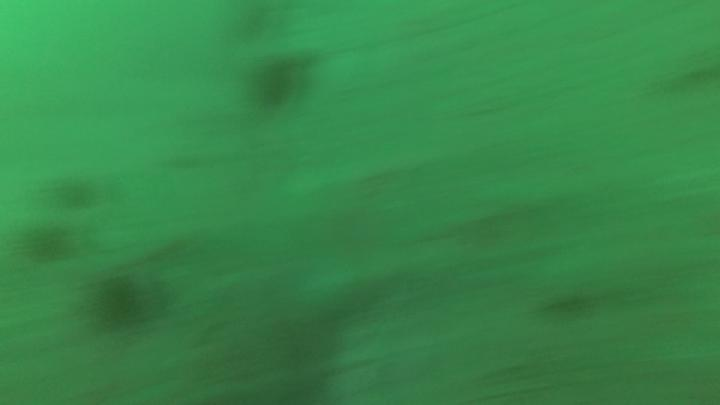echinus: (93, 273, 147, 331), (255, 46, 301, 111), (28, 219, 75, 265)
